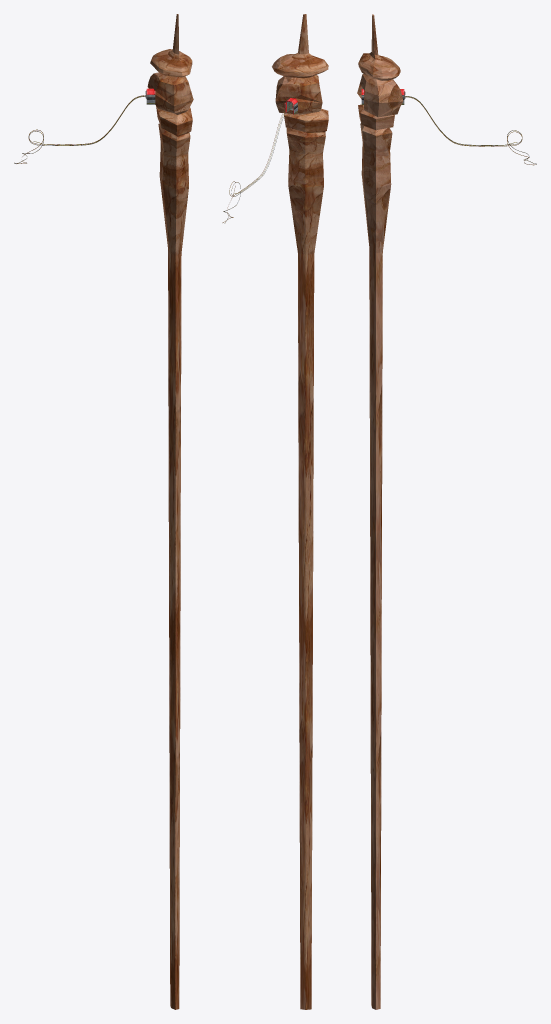
Rendered from STG08_ON_22.obj.
3 views of the same model, side by side, from view 1: azimuth 90°, elevation 25°; view 2: azimuth 150°, elevation 25°; view 3: azimuth 270°, elevation 25° (orthographic).
Parts seen in each view (by area): view 1: Object_2; view 2: Object_2; view 3: Object_2.
Boxes of the visible parts, x1,y1,x2,y2 form: Object_2: [14, 14, 193, 1009]; Object_2: [222, 14, 328, 1009]; Object_2: [357, 14, 536, 1009].
Bounding box in the file's own units: 1372 × 25849 × 4235.
Materials: 16 (16 with a texture image).
